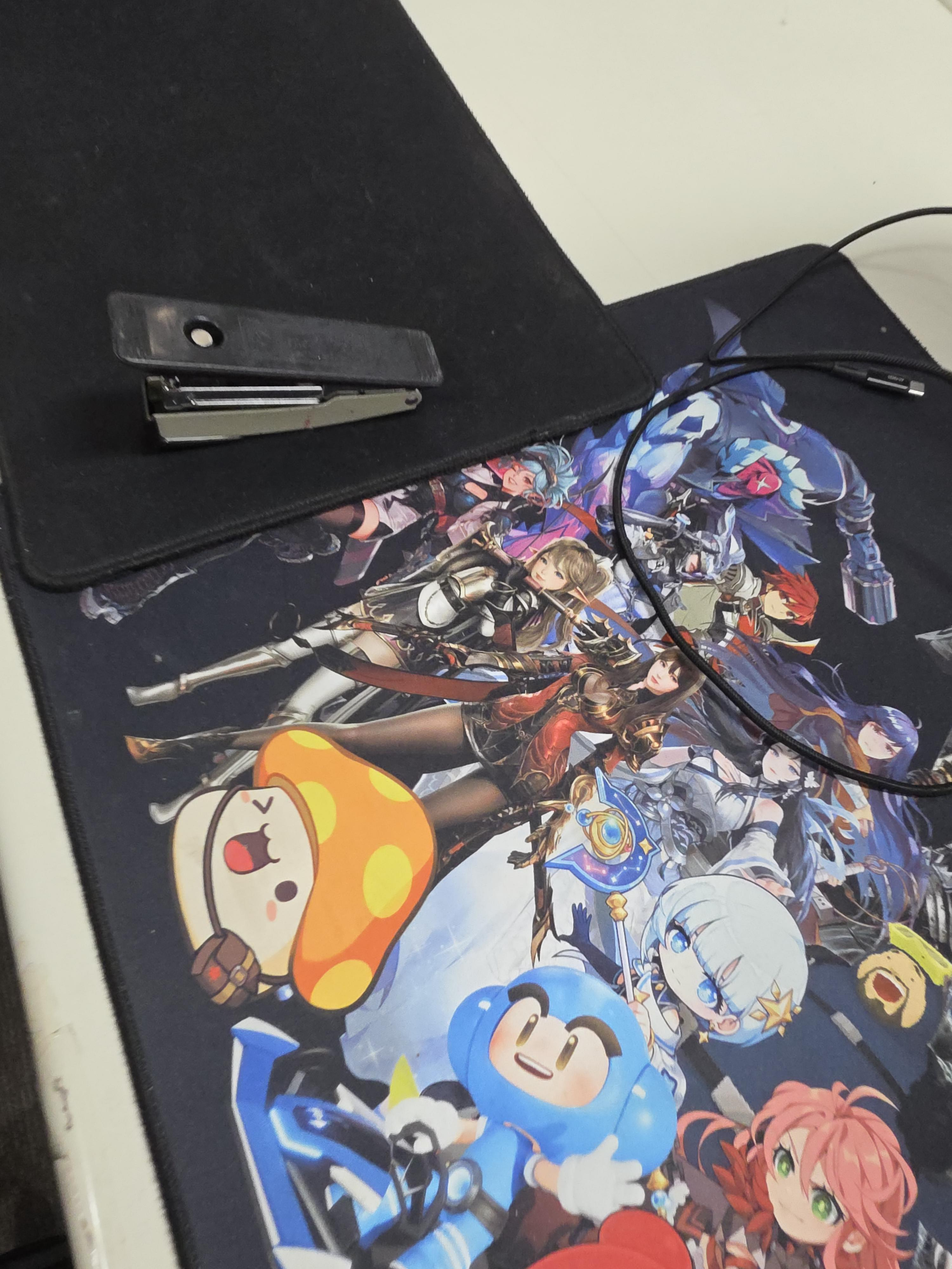stapler: (107, 291, 444, 446)
